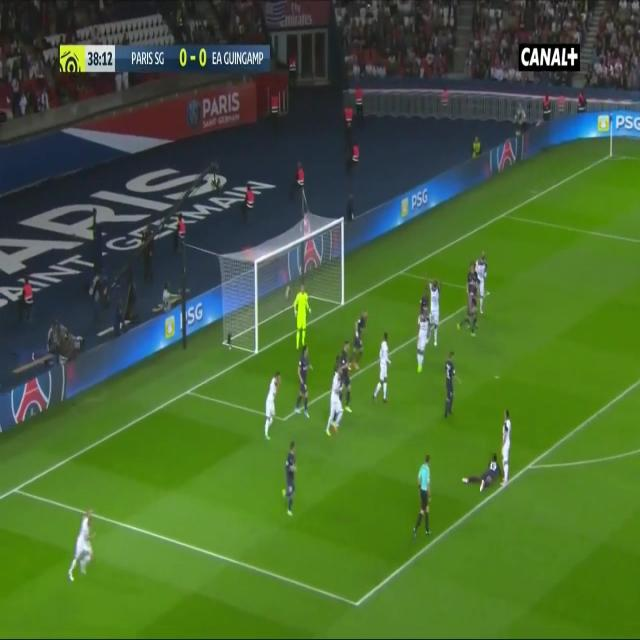Ball: (283, 284, 292, 300)
Goalkeeper: (294, 282, 312, 348)
Player: (66, 507, 99, 586), (371, 329, 395, 406), (455, 263, 479, 337), (461, 452, 502, 493), (293, 343, 313, 422), (442, 349, 463, 424), (326, 366, 345, 444), (280, 442, 299, 516), (265, 372, 284, 444), (415, 302, 433, 378), (427, 275, 443, 348), (354, 304, 370, 370), (502, 410, 514, 490), (342, 340, 354, 414), (476, 253, 489, 319)
Referee: (412, 451, 435, 541)
